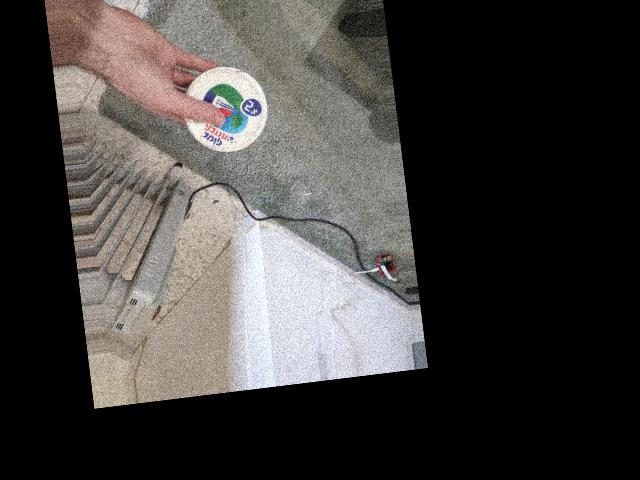cotage: (179, 64, 267, 152)
